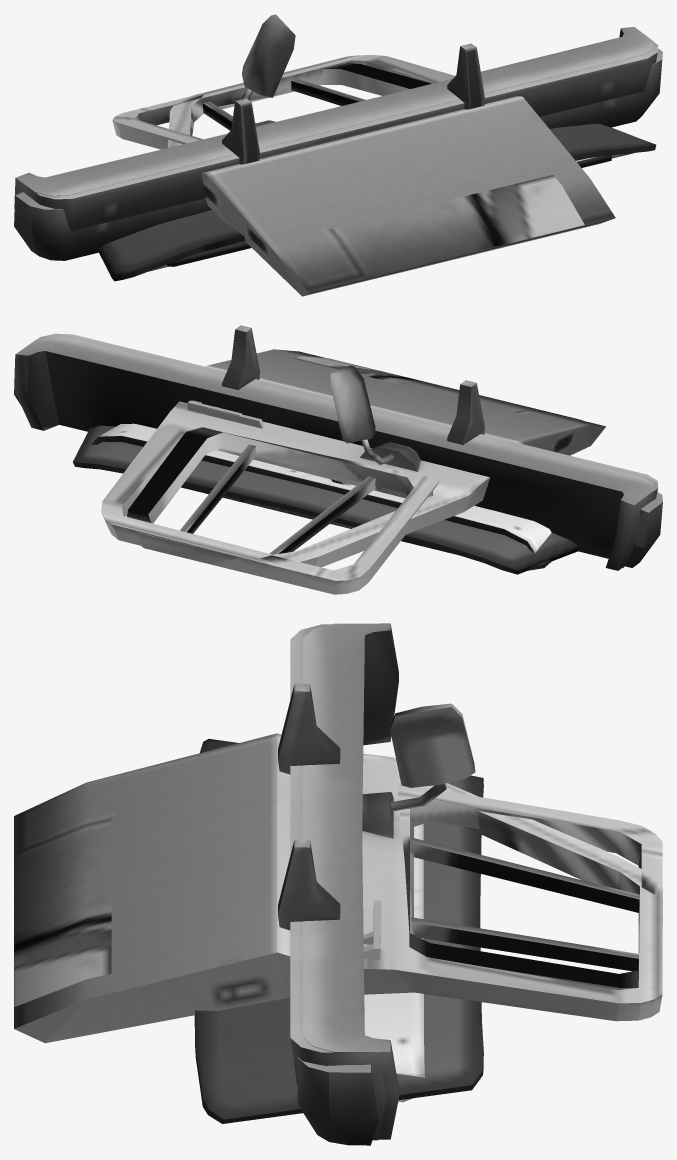
Rendered from Vehicles_3rdGenChevyCKseries_Objects.fbx.
3 renders of one model, top to bottom at view 1: azimuth 30°, elevation 25°; view 2: azimuth 150°, elevation 25°; view 3: azimuth 270°, elevation 25°, orthographic. The views are drawn at different scales.
Parts seen in each view (by area): view 1: 3rdGenChevyCKseries_door_flWI, 3rdGenChevyCKseries_door_rlWI, 3rdGenChevyCKseries_bumper_front1WI, 3rdGenChevyCKseries_bumper_front0WI, 3rdGenChevyCKseries_bumper_rear0WI, 3rdGenChevyCKseries_windshield_frontWI, 3rdGenChevyCKseries_window_blWI; view 2: 3rdGenChevyCKseries_bumper_front1WI, 3rdGenChevyCKseries_door_flWI, 3rdGenChevyCKseries_door_rlWI, 3rdGenChevyCKseries_windshield_frontWI, 3rdGenChevyCKseries_visorWI, 3rdGenChevyCKseries_bumper_front0WI, 3rdGenChevyCKseries_bumper_rear0WI, 3rdGenChevyCKseries_window_blWI; view 3: 3rdGenChevyCKseries_door_flWI, 3rdGenChevyCKseries_door_rlWI, 3rdGenChevyCKseries_bumper_front1WI, 3rdGenChevyCKseries_windshield_frontWI, 3rdGenChevyCKseries_bumper_rear0WI, 3rdGenChevyCKseries_bumper_front0WI, 3rdGenChevyCKseries_visorWI.
Part boxes in pixels (x1,y1,x2,y2): 3rdGenChevyCKseries_door_flWI: (168, 14, 615, 296); 3rdGenChevyCKseries_door_rlWI: (112, 63, 584, 286); 3rdGenChevyCKseries_bumper_front1WI: (14, 27, 653, 208); 3rdGenChevyCKseries_bumper_front0WI: (19, 42, 658, 230); 3rdGenChevyCKseries_bumper_rear0WI: (14, 48, 662, 260); 3rdGenChevyCKseries_windshield_frontWI: (97, 123, 656, 281); 3rdGenChevyCKseries_window_blWI: (167, 155, 611, 266); 3rdGenChevyCKseries_bumper_front1WI: (14, 325, 653, 570); 3rdGenChevyCKseries_door_flWI: (101, 349, 605, 577); 3rdGenChevyCKseries_door_rlWI: (127, 356, 583, 594); 3rdGenChevyCKseries_windshield_frontWI: (73, 425, 579, 574); 3rdGenChevyCKseries_visorWI: (91, 423, 551, 563); 3rdGenChevyCKseries_bumper_front0WI: (37, 333, 658, 568); 3rdGenChevyCKseries_bumper_rear0WI: (14, 358, 662, 567); 3rdGenChevyCKseries_window_blWI: (181, 486, 551, 570); 3rdGenChevyCKseries_door_flWI: (14, 703, 662, 1043); 3rdGenChevyCKseries_door_rlWI: (14, 783, 662, 1006); 3rdGenChevyCKseries_bumper_front1WI: (278, 623, 398, 1139); 3rdGenChevyCKseries_windshield_frontWI: (194, 739, 483, 1123); 3rdGenChevyCKseries_bumper_rear0WI: (297, 1057, 379, 1145); 3rdGenChevyCKseries_bumper_front0WI: (290, 624, 386, 1140); 3rdGenChevyCKseries_visorWI: (364, 824, 424, 1102).
Bounding box in the file's own units: 1.96 × 0.4534 × 1.23.
